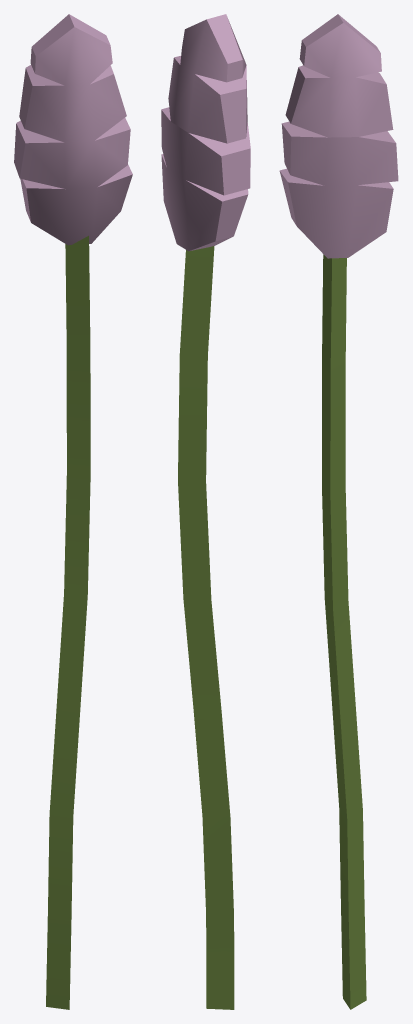
File: plant_water_twig_solo_H.fbx
3 views of the same model, side by side, from view 1: azimuth 90°, elevation 25°; view 2: azimuth 210°, elevation 25°; view 3: azimuth 270°, elevation 25° (orthographic).
Visible parts, largest first — view 1: plant_water_twig_solo_H; view 2: plant_water_twig_solo_H; view 3: plant_water_twig_solo_H.
Part boxes in pixels (left/top/right/bottom): plant_water_twig_solo_H: left=14, top=14, right=132, bottom=1009; plant_water_twig_solo_H: left=161, top=14, right=250, bottom=1009; plant_water_twig_solo_H: left=279, top=14, right=398, bottom=1009.
Size of the model in its own units: 2.67 by 36.53 by 3.99.
